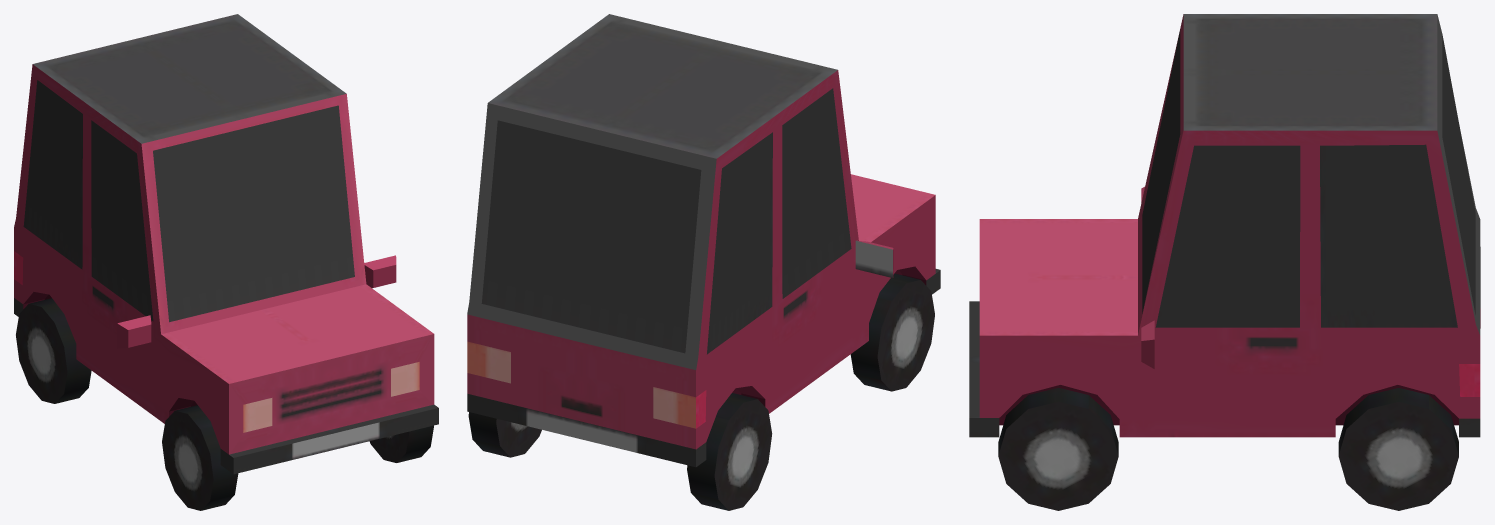
File: small4x4_red.fbx
3 renders of one model, left to right at view 1: azimuth 30°, elevation 25°; view 2: azimuth 150°, elevation 25°; view 3: azimuth 270°, elevation 25°, orthographic. The views are drawn at different scales.
Parts seen in each view (by area): view 1: small4x4_red; view 2: small4x4_red; view 3: small4x4_red.
Part boxes in pixels (left/top/right/bottom): small4x4_red: left=14, top=14, right=438, bottom=510; small4x4_red: left=467, top=14, right=940, bottom=510; small4x4_red: left=969, top=14, right=1480, bottom=510.
Bounding box in the file's own units: 3.42 × 3.78 × 4.66.
